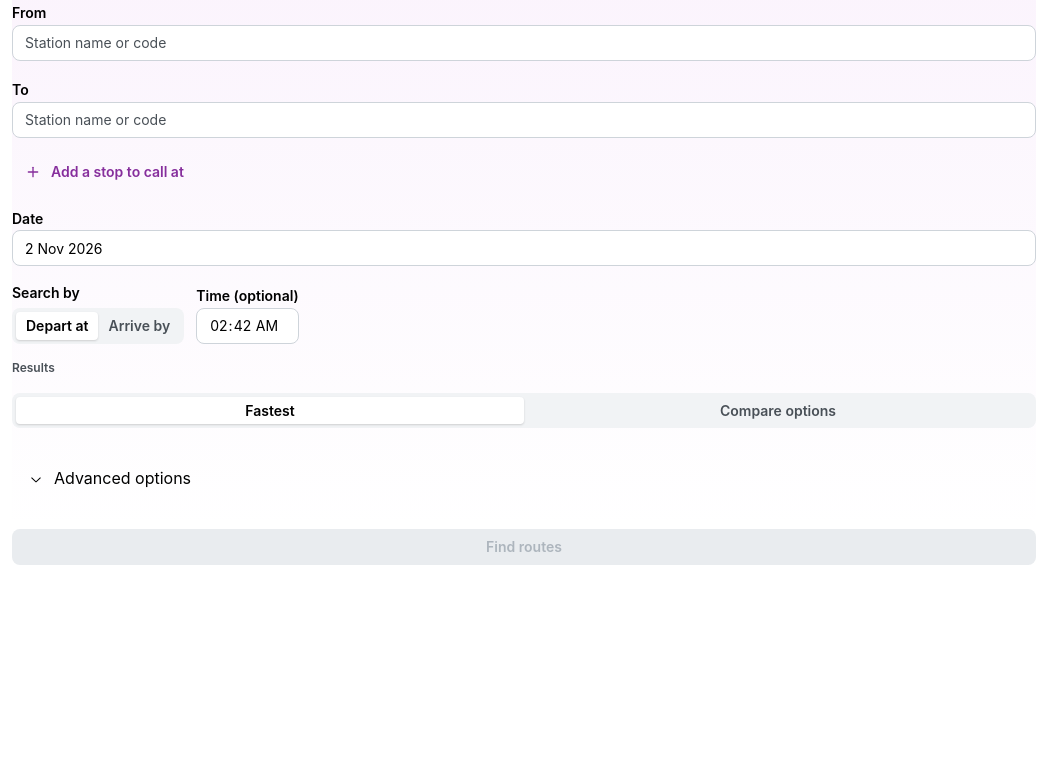
Test case: PlanTripFlow › provisional true shows the timetable note: true
The image size is (1048, 768).
Type "EUS" into the dropdown labelled "From". click: (524, 43)
box: [12,25,1036,61]
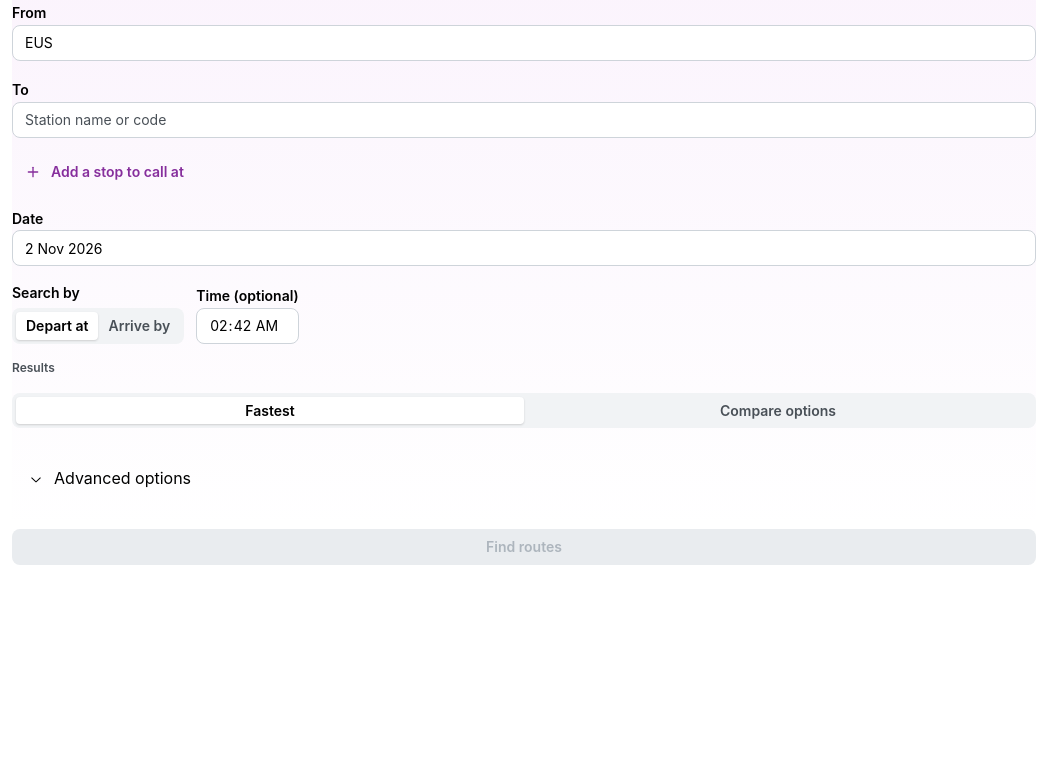
Type "MKC" into the dropdown labelled "To". click: (524, 120)
box: [12,102,1036,138]
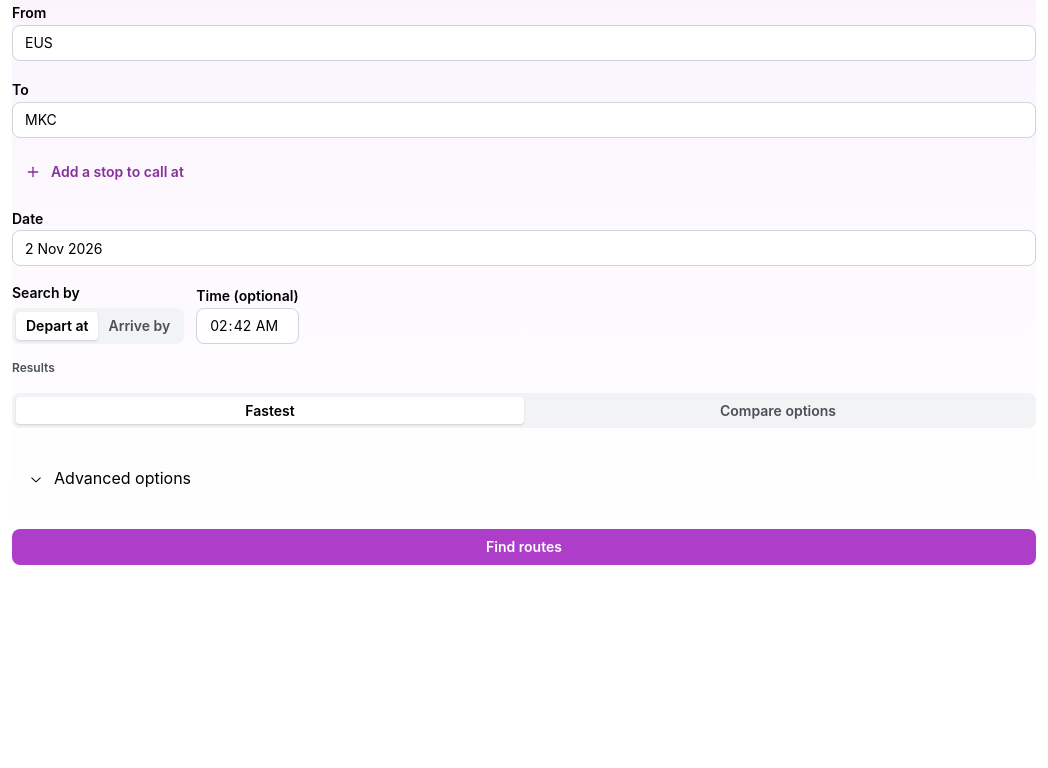
Click the button "Find routes". click: (524, 547)
box: [12,529,1036,565]
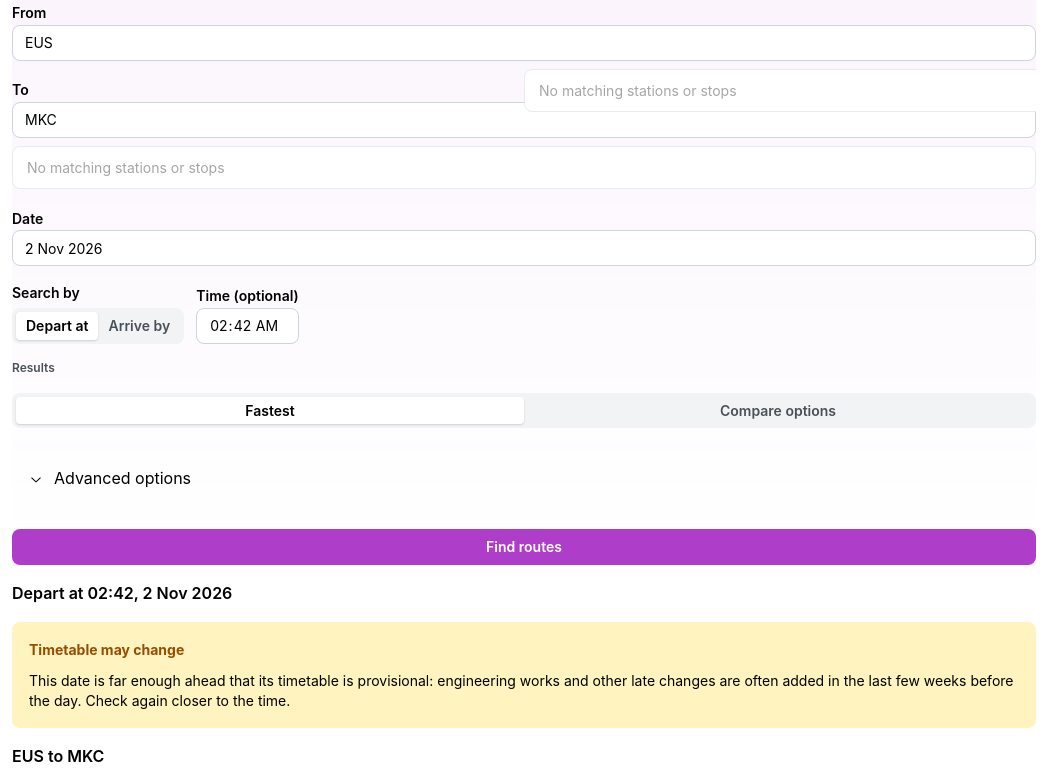
Expected: the text "Timetable may change" is shown, [29,639,184,660]
